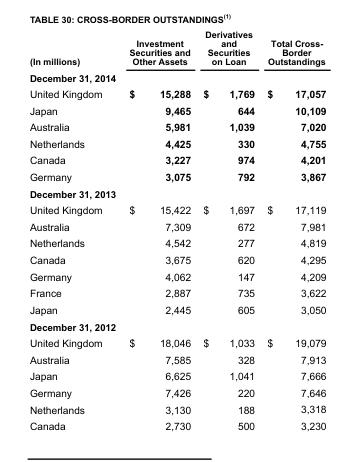table: (28, 29, 325, 431)
table column: (28, 29, 115, 431), (115, 29, 196, 431), (260, 29, 325, 431), (196, 29, 260, 431)
table column header: (28, 29, 325, 69)
table projected row header: (28, 69, 325, 85), (28, 185, 325, 201), (28, 318, 325, 334)
table row: (28, 29, 325, 69), (28, 101, 325, 118), (28, 118, 325, 135), (28, 151, 325, 168), (28, 168, 325, 185), (28, 201, 325, 218), (28, 234, 325, 251), (28, 267, 325, 284), (28, 284, 325, 301), (28, 301, 325, 318), (28, 350, 325, 367), (28, 367, 325, 384), (28, 400, 325, 417), (28, 69, 325, 85), (28, 85, 325, 101), (28, 135, 325, 151), (28, 185, 325, 201), (28, 218, 325, 234), (28, 251, 325, 267), (28, 318, 325, 334), (28, 334, 325, 350), (28, 384, 325, 400), (28, 417, 325, 431)
